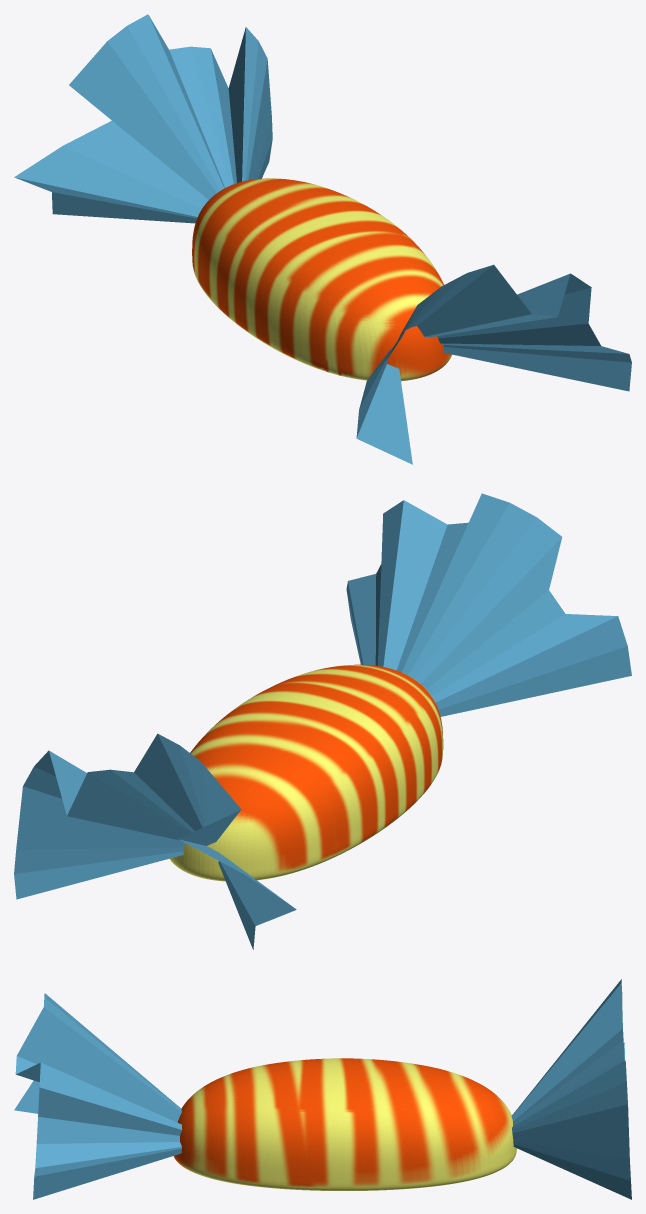
The model's file is OrangeTall.fbx.
3 renders of one model, top to bottom at view 1: azimuth 30°, elevation 25°; view 2: azimuth 150°, elevation 25°; view 3: azimuth 270°, elevation 25°, orthographic. The views are drawn at different scales.
Parts seen in each view (by area): view 1: Cube, Cone.002, Cone.001; view 2: Cone.001, Cube, Cone.002; view 3: Cube, Cone.001, Cone.002.
Boxes of the visible parts, x1,y1,x2,y2 form: Cube: (192,178,451,381); Cone.002: (14,14,272,223); Cone.001: (356,264,631,464); Cone.001: (346,493,631,716); Cube: (169,664,443,881); Cone.002: (14,733,296,949); Cube: (173,1058,516,1190); Cone.001: (14,993,182,1199); Cone.002: (511,979,631,1199).
Bounding box in the file's own units: 111 × 70.1 × 234.
Materials: 2 (1 with a texture image).
